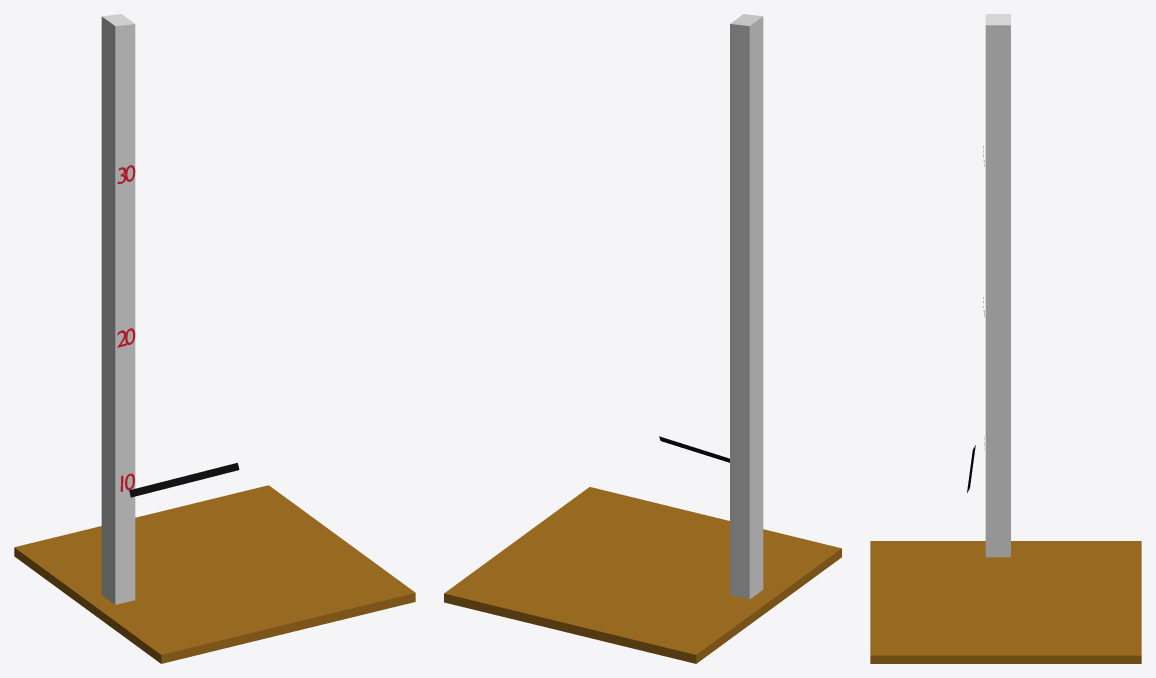
Rendered from latte.glb.
3 views of the same model, side by side, from view 1: azimuth 30°, elevation 25°; view 2: azimuth 150°, elevation 25°; view 3: azimuth 270°, elevation 25° (orthographic). The views are drawn at different scales.
Visible parts, largest first — view 1: Cube.001, Cube, Plane; view 2: Cube.001, Cube; view 3: Cube.001, Cube.
Boxes of the visible parts, box(x1,y1,x2,y2) form: Cube.001: box(14, 485, 415, 663); Cube: box(101, 14, 135, 604); Plane: box(129, 463, 239, 497); Cube.001: box(444, 487, 841, 663); Cube: box(730, 14, 763, 599); Cube.001: box(870, 541, 1141, 663); Cube: box(985, 14, 1010, 557).
Size of the model in its own units: 1.11 by 2.46 by 1.11.
